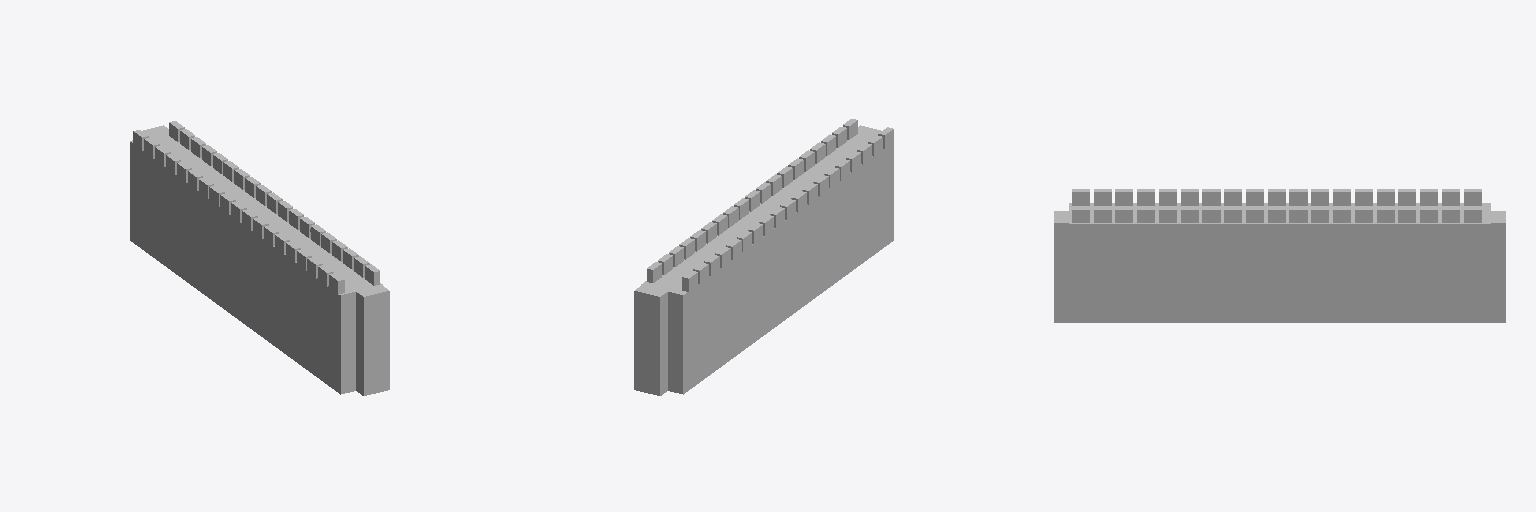
Rendered from right_wall.obj.
3 renders of one model, left to right at view 1: azimuth 30°, elevation 25°; view 2: azimuth 150°, elevation 25°; view 3: azimuth 270°, elevation 25°, orthographic.
Parts seen in each view (by area): view 1: Right_Wall_Right_Wall.001; view 2: Right_Wall_Right_Wall.001; view 3: Right_Wall_Right_Wall.001.
Boxes of the visible parts, x1=… form: Right_Wall_Right_Wall.001: x1=130, y1=121, x2=389, y2=395; Right_Wall_Right_Wall.001: x1=634, y1=119, x2=893, y2=395; Right_Wall_Right_Wall.001: x1=1054, y1=189, x2=1505, y2=322.
Size of the model in its own units: 54.37 by 134 by 486.